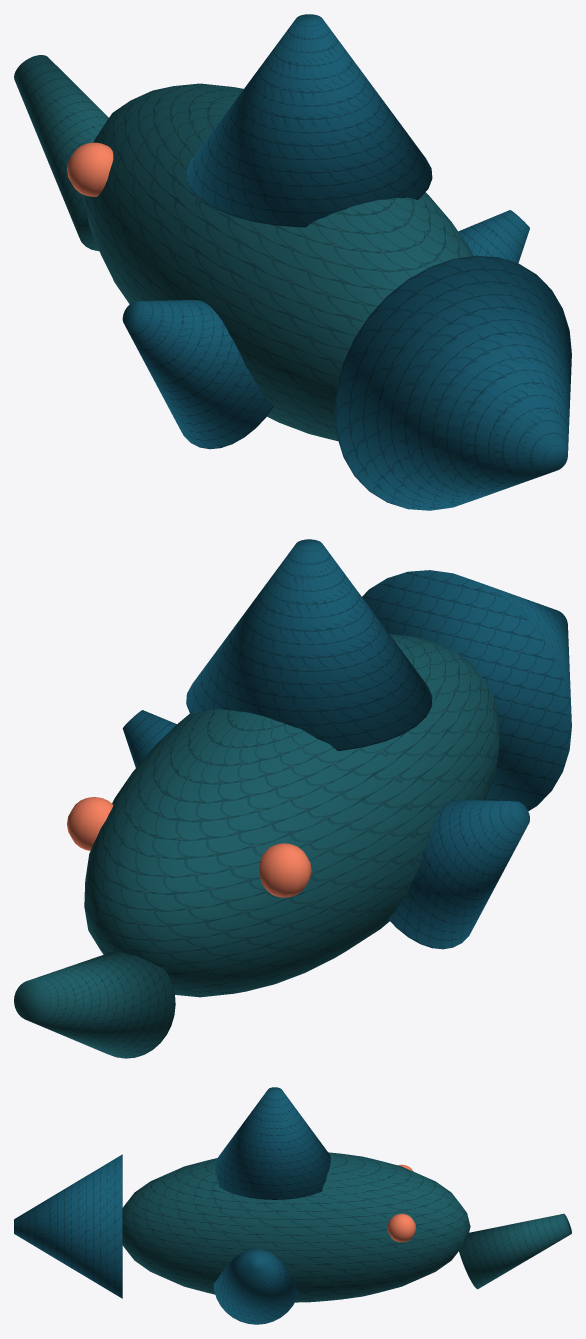
The model's file is makara.glb.
The picture shows the model from 3 angles, top to bottom: view 1: azimuth 30°, elevation 25°; view 2: azimuth 150°, elevation 25°; view 3: azimuth 270°, elevation 25°; orthographic projection. The views are drawn at different scales.
Visible parts, largest first — view 1: Body, TailFin, Dorsal, Pectoral, Trunk, Pectoral.001, Eye; view 2: Body, Dorsal, TailFin, Pectoral, Trunk, Eye, Eye.001, Pectoral.001; view 3: Body, TailFin, Dorsal, Pectoral.001, Trunk, Eye.001.
Part boxes in pixels (bbox=[...]): Body: bbox=[85, 83, 473, 441]; TailFin: bbox=[334, 255, 571, 510]; Dorsal: bbox=[186, 14, 432, 227]; Pectoral: bbox=[122, 300, 274, 449]; Trunk: bbox=[14, 55, 108, 251]; Pectoral.001: bbox=[458, 210, 529, 263]; Eye: bbox=[67, 142, 113, 196]; Body: bbox=[84, 634, 499, 997]; Dorsal: bbox=[186, 539, 432, 750]; TailFin: bbox=[362, 570, 571, 810]; Pectoral: bbox=[388, 800, 529, 949]; Trunk: bbox=[14, 952, 175, 1058]; Eye: bbox=[259, 843, 311, 897]; Eye.001: bbox=[67, 797, 113, 850]; Pectoral.001: bbox=[122, 710, 176, 767]; Body: bbox=[122, 1152, 470, 1302]; TailFin: bbox=[14, 1154, 122, 1298]; Dorsal: bbox=[215, 1087, 330, 1199]; Pectoral.001: bbox=[213, 1249, 298, 1324]; Trunk: bbox=[459, 1213, 571, 1289]; Eye.001: bbox=[387, 1213, 416, 1242].
Size of the model in its own units: 0.5211 by 0.481 by 1.19.
3 materials, 2 textured.
